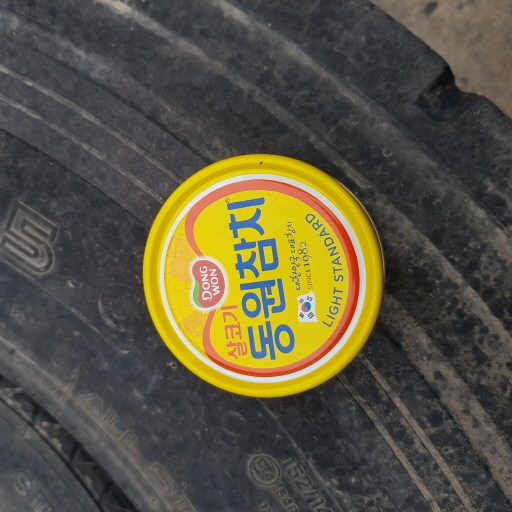Metal_1: (134, 148, 386, 397)
